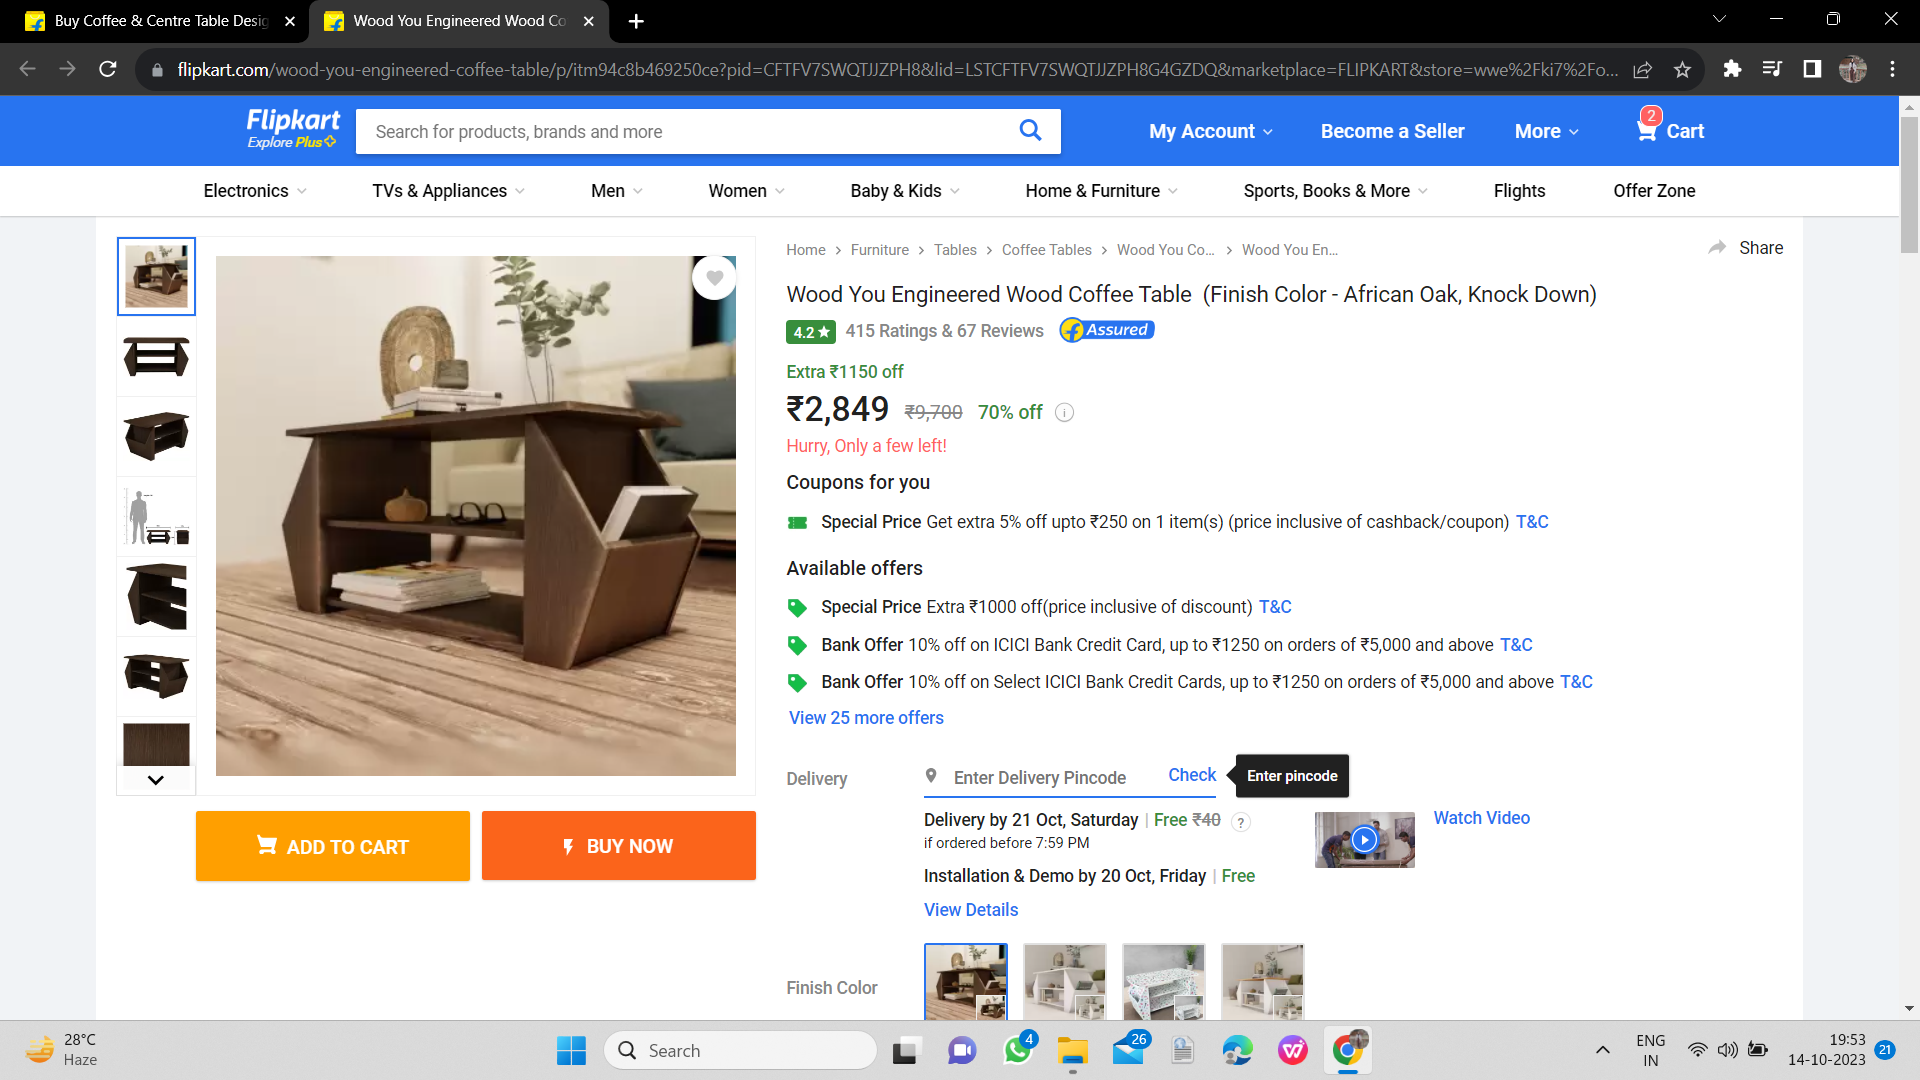Image: (220, 261, 744, 778), (355, 100, 1093, 162), (913, 934, 1313, 1021)
Paragraph: (762, 596, 1623, 728), (166, 806, 775, 882), (783, 506, 1565, 541), (765, 282, 1672, 311), (775, 352, 1042, 430), (907, 754, 1361, 796), (766, 318, 1168, 345), (897, 862, 1209, 890), (222, 107, 355, 156), (893, 807, 1147, 831), (771, 430, 969, 458), (1623, 96, 1717, 154), (1138, 113, 1273, 148), (775, 469, 938, 497), (1288, 115, 1476, 138), (789, 553, 940, 582), (1497, 104, 1578, 144), (775, 762, 861, 796), (1687, 239, 1788, 265), (782, 975, 886, 997)
